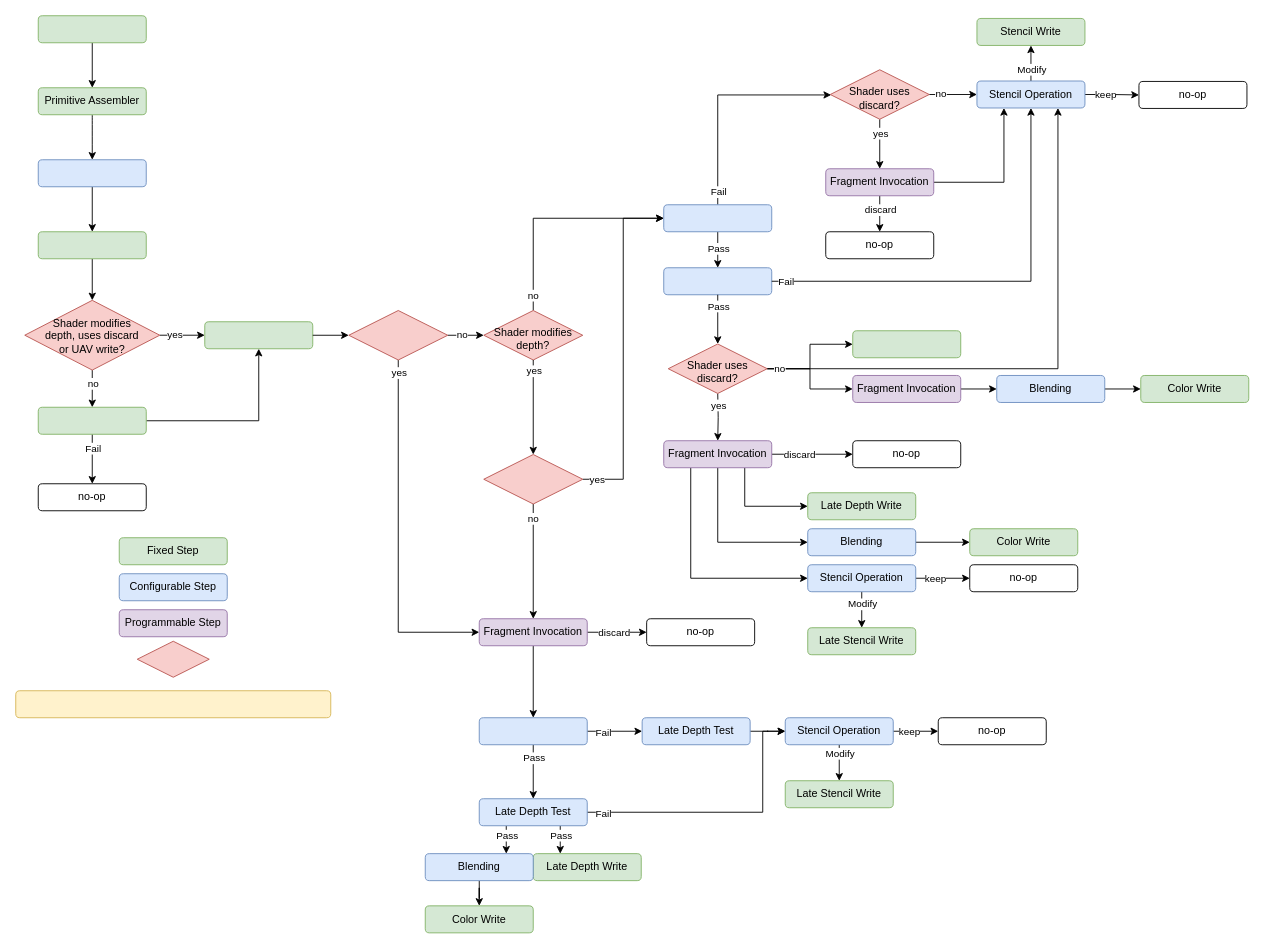
The diagram is 1265 pixels wide and 949 high, and some of its shapes have lost their labels. The centre of each missing label's shape, as x and y in pixels:
"Coarse Rasterization" belongs at (x=91, y=245).
"Condition" belongs at (x=172, y=658).
"Conservative depth?" belongs at (x=533, y=479).
"Early Depth Test" belongs at (x=717, y=281).
"Early Depth Write" belongs at (x=906, y=344).
"Early Stencil Test" belongs at (x=717, y=218).
"Face Culling" belongs at (x=91, y=173).
"Fine Rasterization" belongs at (x=258, y=335).
"Hi-Z Test" belongs at (x=91, y=420).
"Late Stencil Test" belongs at (x=532, y=731).
"Mesh Data" belongs at (x=91, y=29).
"Shader uses UAV write?" belongs at (x=398, y=335).
"⚠️The order of the steps can change depending on the GPU ⚠️" belongs at (x=173, y=704).
